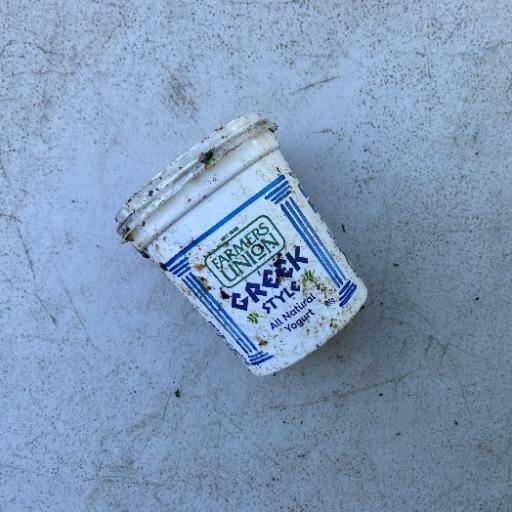Plastic: (112, 111, 370, 379)
